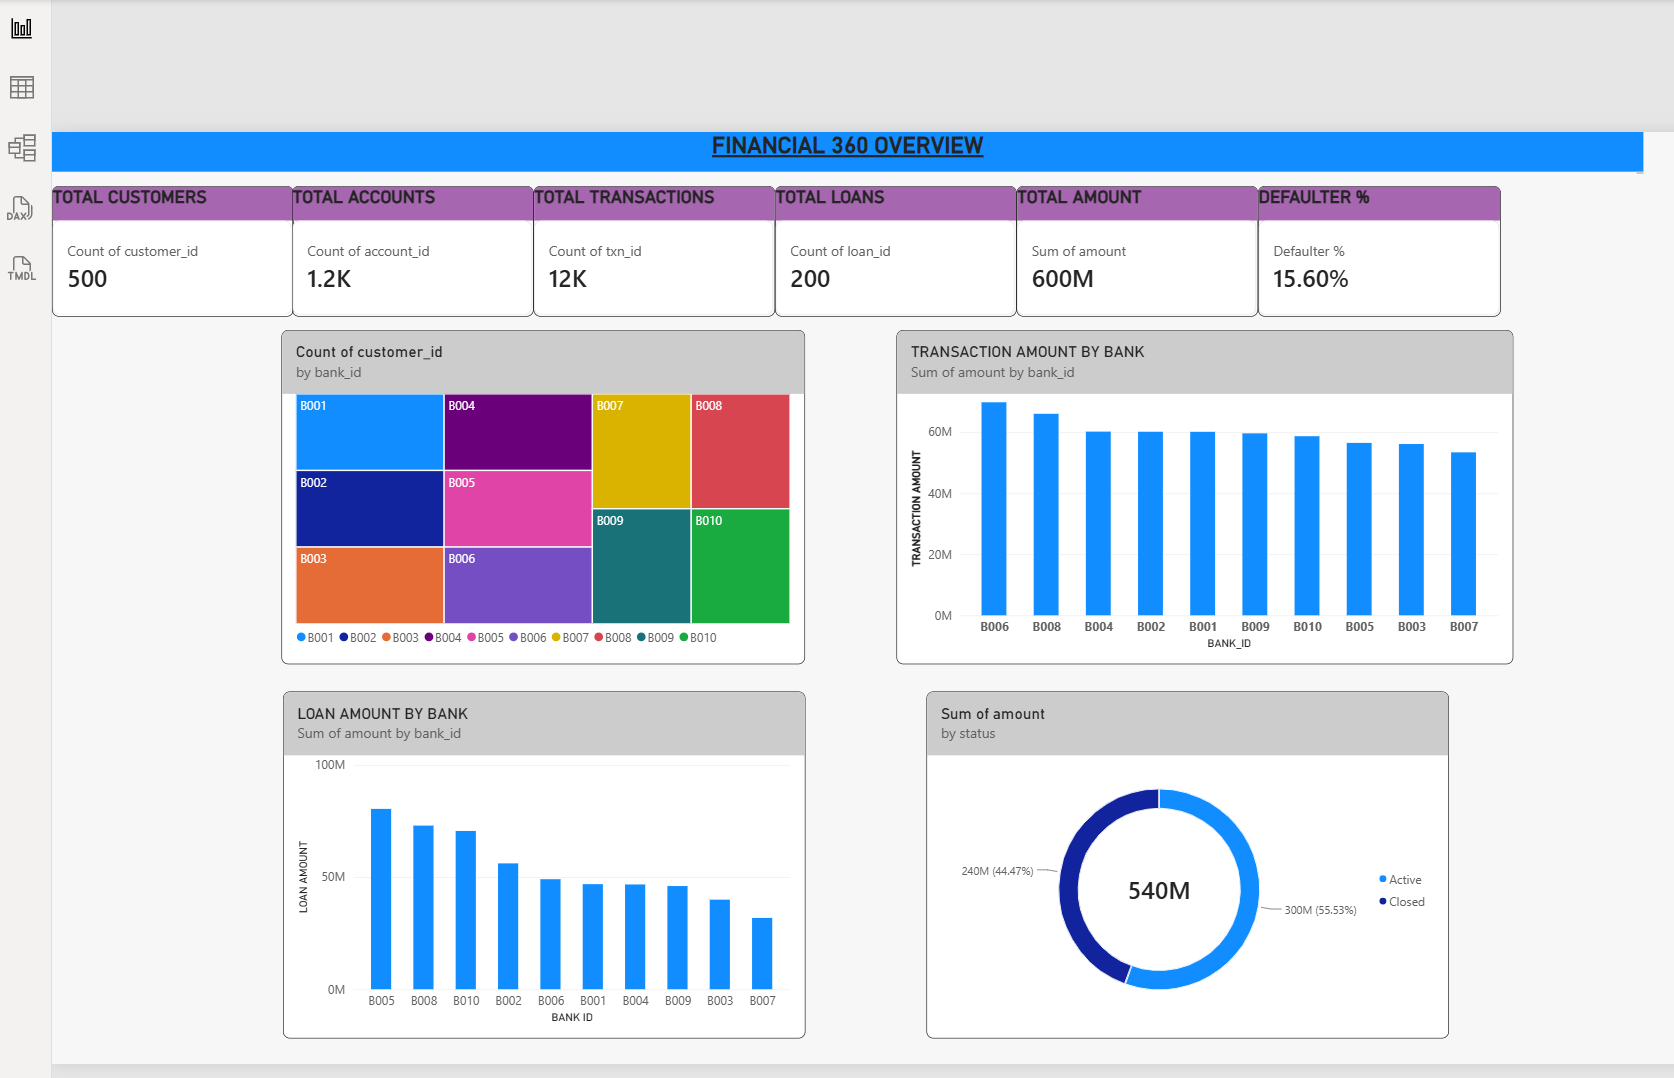

This screenshot's page, from the dashboard's own definition file:
{"tool":"powerbi","page":{"name":"Page 1","canvas":[1920,1080],"ordinal":0},"visuals":[{"type":"cardVisual","title":"TOTAL CUSTOMERS","fields":{"Data":["CountNonNull(finance_db customers.customer_id)"]},"box":[0,62.6,279.8,151.2],"z":0},{"type":"cardVisual","title":"TOTAL ACCOUNTS","fields":{"Data":["CountNonNull(finance_db accounts.account_id)"]},"box":[278.1,62.6,279.8,151.2],"z":1000},{"type":"cardVisual","title":"TOTAL TRANSACTIONS","fields":{"Data":["CountNonNull(finance_db transactions.txn_id)"]},"box":[557.9,62.6,279.8,151.2],"z":2000},{"type":"cardVisual","title":"TOTAL LOANS","fields":{"Data":["CountNonNull(finance_db f_m_loans.loan_id)"]},"box":[837.8,62.6,279.8,151.2],"z":3000},{"type":"cardVisual","title":"TOTAL AMOUNT","fields":{"Data":["Sum(finance_db transactions.amount)"]},"box":[1117.6,62.6,279.8,151.2],"z":4000},{"type":"clusteredColumnChart","title":"TRANSACTION AMOUNT BY BANK","fields":{"Category":["finance_db banks.bank_id"],"Y":["Sum(finance_db transactions.amount)"]},"box":[978.5,229.4,714.4,387.6],"z":6000},{"type":"clusteredColumnChart","title":"LOAN AMOUNT BY BANK","fields":{"Category":["finance_db banks.bank_id"],"Y":["Sum(finance_db f_m_loans.amount)"]},"box":[267.7,648.3,605,402],"z":7000},{"type":"donutChart","fields":{"Category":["finance_db f_m_loans.status"],"Y":["Sum(finance_db f_m_loans.amount)"]},"box":[1013.3,648.3,605,402],"z":8000},{"type":"cardVisual","title":"DEFAULTER %","fields":{"Data":["finance_db customers.Defaulter %"]},"box":[1397.4,62.6,281.6,151.2],"z":9000},{"type":"textbox","title":"FINANCIAL 360 OVERVIEW","box":[0,0,1844.1,48.7],"z":10000},{"type":"treemap","fields":{"Group":["finance_db banks.bank_id"],"Values":["CountNonNull(finance_db customers.customer_id)"]},"box":[265.9,229.4,606.6,387.6],"z":10001}]}

Visuals, with their boxes on the page's 1920x1080 design canvas (x1, y1, x2, y2). These are canvas units, not pixel positions in the 1674x1078 screenshot, which may show the page scaled, cropped or inside an application window:
"TOTAL CUSTOMERS" cardVisual: {"left": 0, "top": 63, "right": 280, "bottom": 214}
"TOTAL ACCOUNTS" cardVisual: {"left": 278, "top": 63, "right": 558, "bottom": 214}
"TOTAL TRANSACTIONS" cardVisual: {"left": 558, "top": 63, "right": 838, "bottom": 214}
"TOTAL LOANS" cardVisual: {"left": 838, "top": 63, "right": 1118, "bottom": 214}
"TOTAL AMOUNT" cardVisual: {"left": 1118, "top": 63, "right": 1397, "bottom": 214}
"TRANSACTION AMOUNT BY BANK" clusteredColumnChart: {"left": 978, "top": 229, "right": 1693, "bottom": 617}
"LOAN AMOUNT BY BANK" clusteredColumnChart: {"left": 268, "top": 648, "right": 873, "bottom": 1050}
donutChart - finance_db f_m_loans.status x Sum(finance_db f_m_loans.amount): {"left": 1013, "top": 648, "right": 1618, "bottom": 1050}
"DEFAULTER %" cardVisual: {"left": 1397, "top": 63, "right": 1679, "bottom": 214}
"FINANCIAL 360 OVERVIEW" textbox: {"left": 0, "top": 0, "right": 1844, "bottom": 49}
treemap - finance_db banks.bank_id x CountNonNull(finance_db customers.customer_id): {"left": 266, "top": 229, "right": 872, "bottom": 617}
